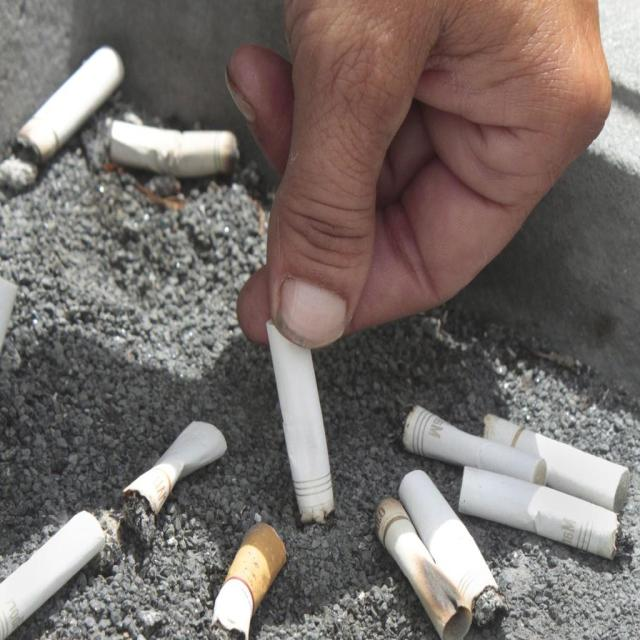smoking: (266, 318, 336, 524)
